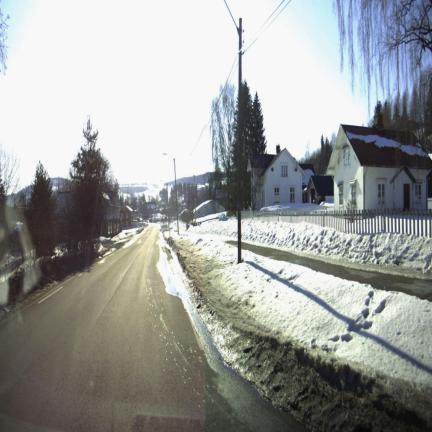Road: (0, 227, 304, 431)
